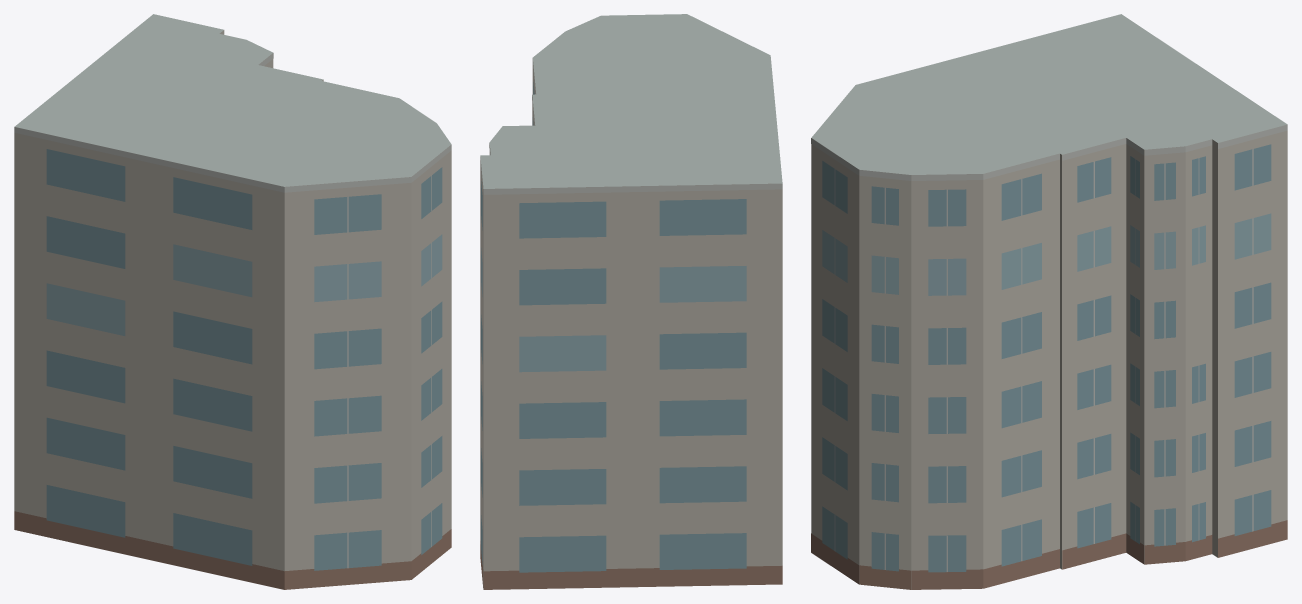
Rendered from survey-upis-32654726.glb.
The picture shows the model from 3 angles, left to right: view 1: azimuth 30°, elevation 25°; view 2: azimuth 150°, elevation 25°; view 3: azimuth 270°, elevation 25°; orthographic projection. The views are drawn at different scales.
Visible parts, largest first — view 1: survey-upis-32654726.tmp; view 2: survey-upis-32654726.tmp; view 3: survey-upis-32654726.tmp.
Boxes of the visible parts, x1,y1,x2,y2 form: survey-upis-32654726.tmp: (14, 14, 451, 589); survey-upis-32654726.tmp: (480, 14, 782, 589); survey-upis-32654726.tmp: (811, 14, 1287, 589).
Size of the model in its own units: 14 by 16.8 by 17.5.
